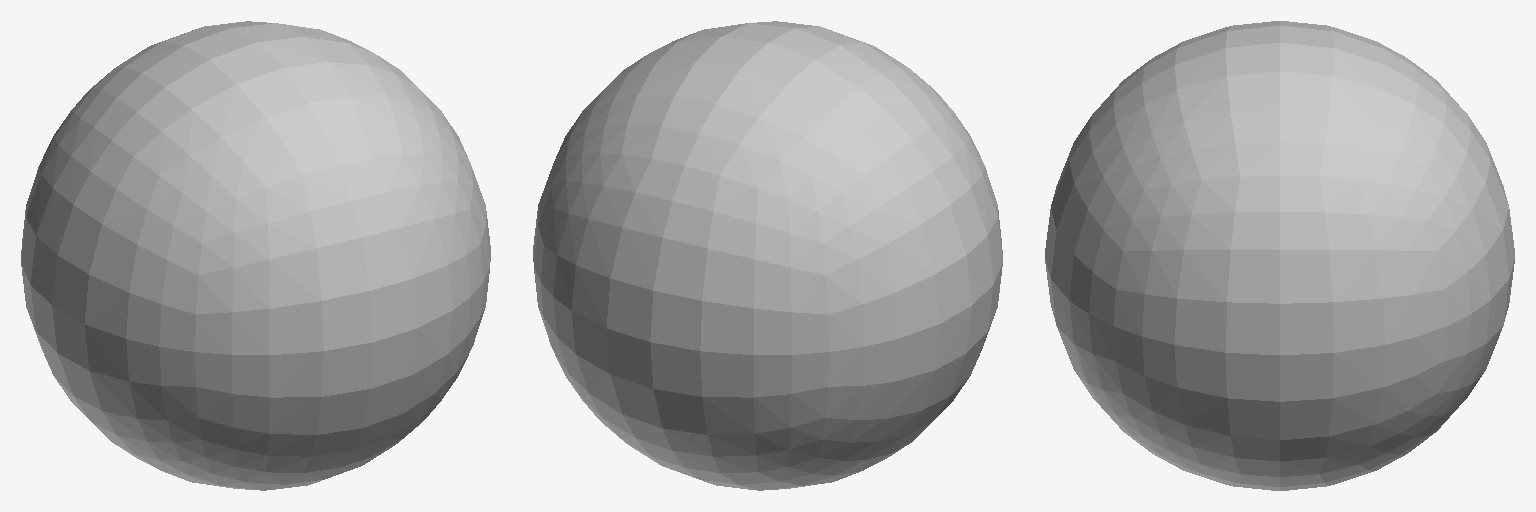
Rendered from sphere_bump.obj.
3 views of the same model, side by side, from view 1: azimuth 30°, elevation 25°; view 2: azimuth 150°, elevation 25°; view 3: azimuth 270°, elevation 25° (orthographic).
Visible parts, largest first — view 1: Cube.001; view 2: Cube.001; view 3: Cube.001.
Part boxes in pixels (x1,y1,x2,y2): Cube.001: (21, 21, 490, 490); Cube.001: (533, 21, 1002, 490); Cube.001: (1045, 21, 1514, 490).
Size of the model in its own units: 2.58 by 2.58 by 2.58.